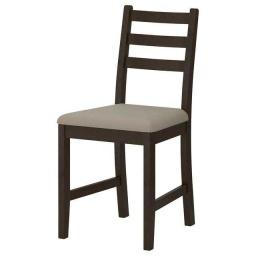Chair: (57, 6, 197, 251)
